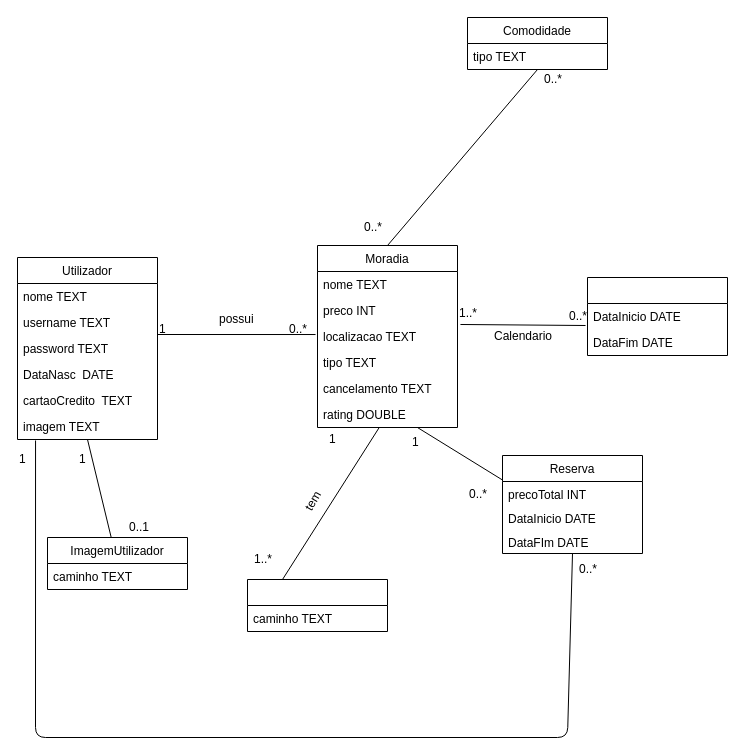
Image size: 745x756. Some labels were removed from this diagram. Here are the shapes that lost their labels. From the top down, the box of each, then its label:
(586, 276, 728, 356): Indisponibilidade
(246, 578, 388, 632): ImagemMoradia
